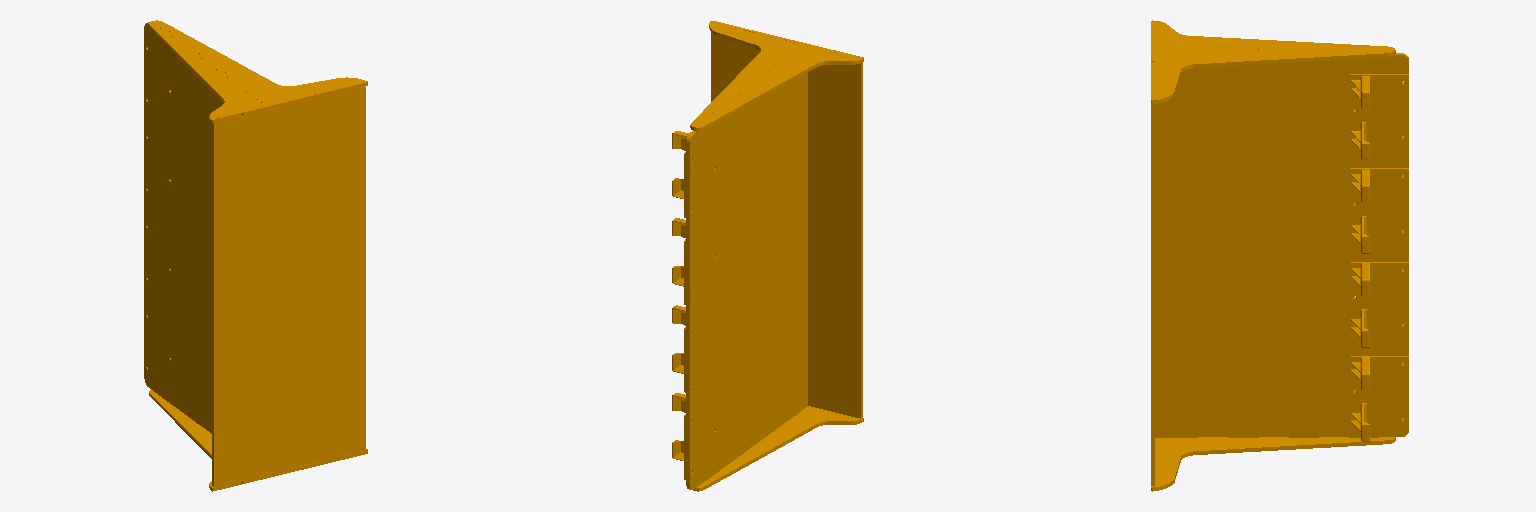
robot.urdf — tool_holder:
<?xml version="1.0"?>

<robot name="tool_holder">
  <link name="tool_holder_frame">
    <visual>
      <geometry>
        <mesh filename="package://iai_kitchen/meshes/racks/BoxyToolholder/Rack_assy.stl"/>
      </geometry>
    </visual>
  </link>
</robot>

--- Facts derived from the render (not from the file) ---
Views: 3 orthographic renders of the robot side by side, from view 1: azimuth 30°, elevation 25°; view 2: azimuth 150°, elevation 25°; view 3: azimuth 270°, elevation 25°.
Model tool_holder with 1 links and 0 joints (none), rooted at tool_holder_frame, posed all joints at 0.
Links seen in each view (by area): view 1: tool_holder_frame; view 2: tool_holder_frame; view 3: tool_holder_frame.
Link boxes in pixels (<box>): tool_holder_frame: <box>144,20,367,491</box>; tool_holder_frame: <box>672,21,863,491</box>; tool_holder_frame: <box>1151,20,1408,491</box>.
Bounding box of the posed robot: 21.97 × 30 × 50 m (x, y, z).
Meshes: 1 distinct files referenced, 1 mesh visuals loaded (1 binary STL).